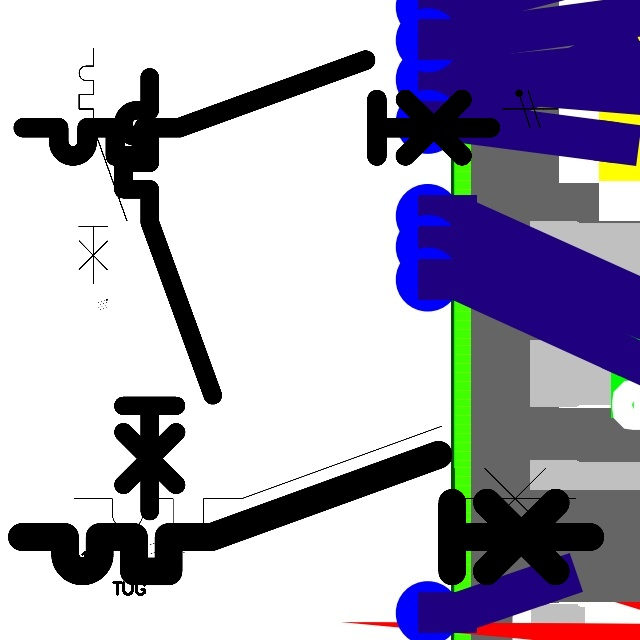interruptor_termomagnetico: (7, 440, 605, 586), (61, 413, 589, 542), (11, 48, 502, 168), (112, 66, 223, 522), (73, 42, 133, 290)
